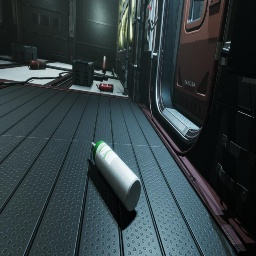0: (92, 141, 141, 212)
FireExtinguisher ]: (96, 83, 113, 92)
FirstAidBox ,: (94, 67, 94, 72)
NitrogenTank ,: (28, 60, 46, 70), (102, 56, 107, 75)
SafetySwitchPanel ,: (144, 0, 159, 52)
